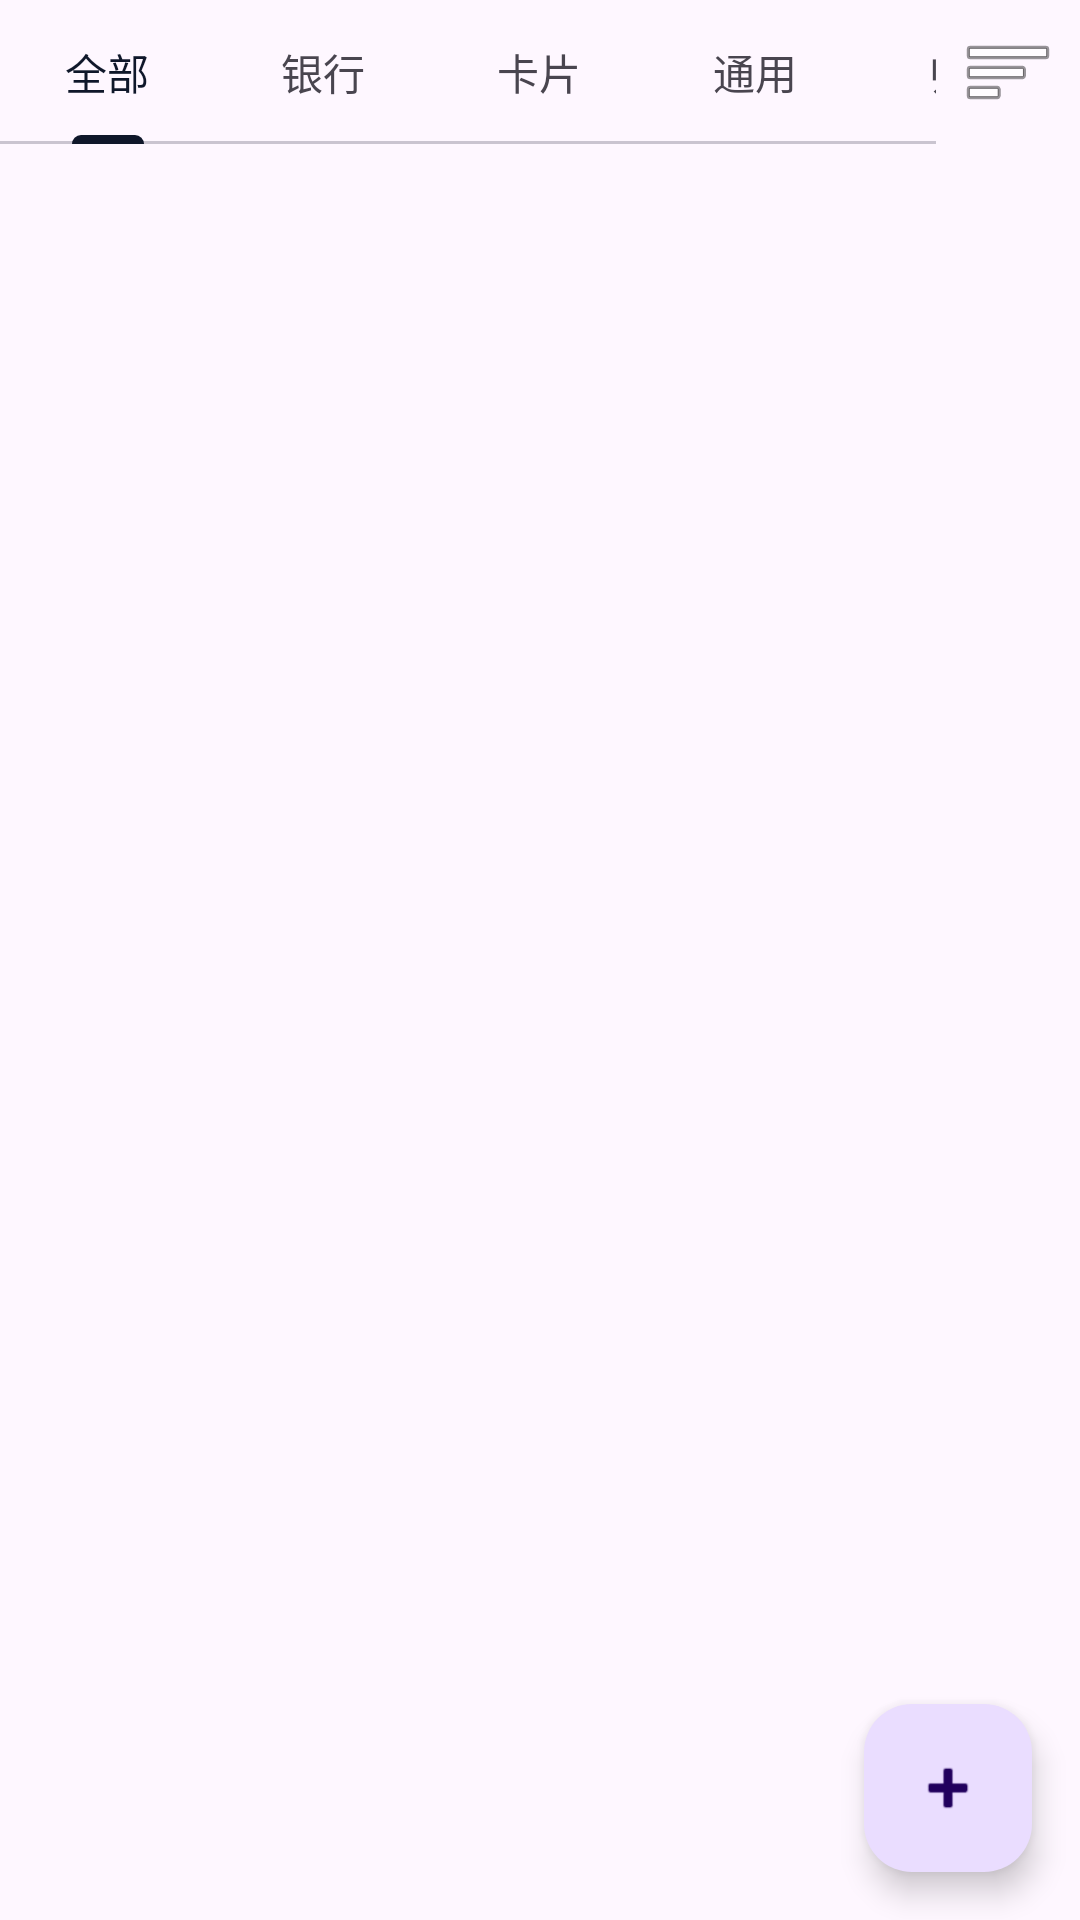

Where icons sit on this 1080px x 1920px app screen, as bbox=(x1, y1, x2, y2):
排序: bbox=(967, 46, 1049, 99)
添加活动: bbox=(864, 1704, 1032, 1872)
